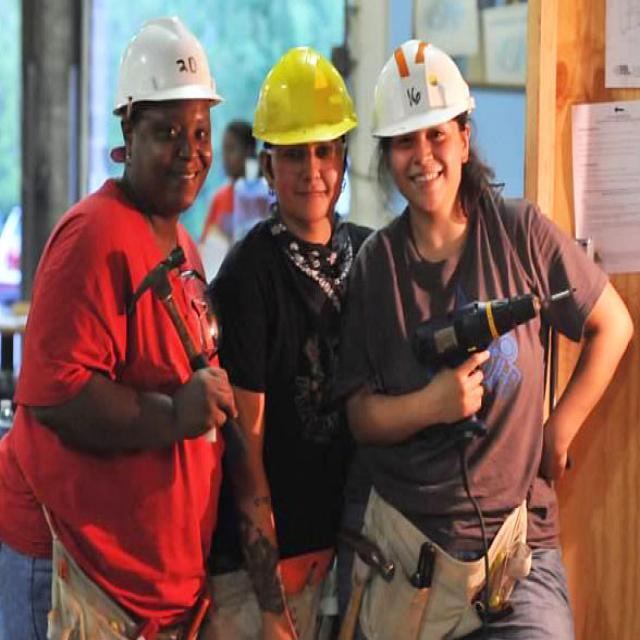helmet: (113, 16, 223, 115), (250, 45, 357, 145), (369, 38, 473, 138)
no-vest: (13, 178, 225, 606), (354, 206, 568, 561), (211, 216, 385, 575)
person: (338, 26, 640, 640), (0, 5, 236, 640), (210, 28, 395, 640)
